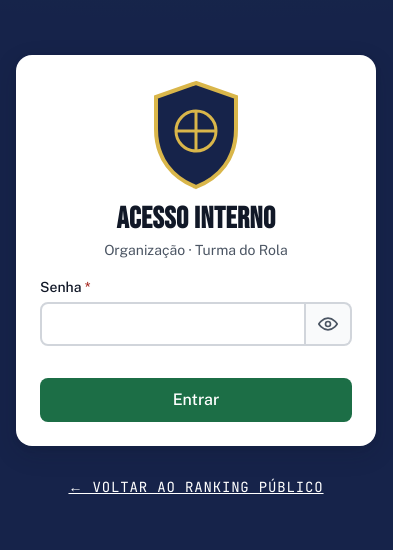
LoginForm › sem violação de acessibilidade (axe) no estado de erro
Type "senha-errada" into the password field labelled "Senha *" at (173, 324), box [40, 302, 306, 346]
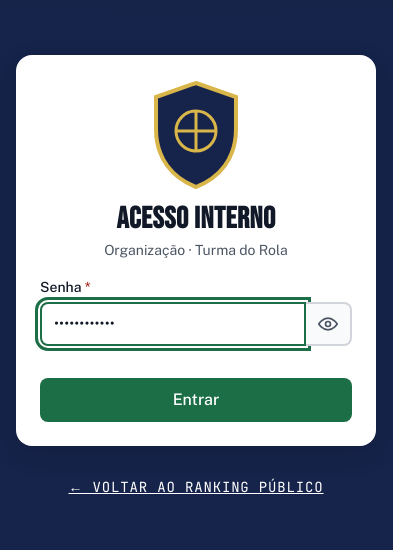
Click the button "Entrar" at (196, 400), box [40, 378, 352, 422]
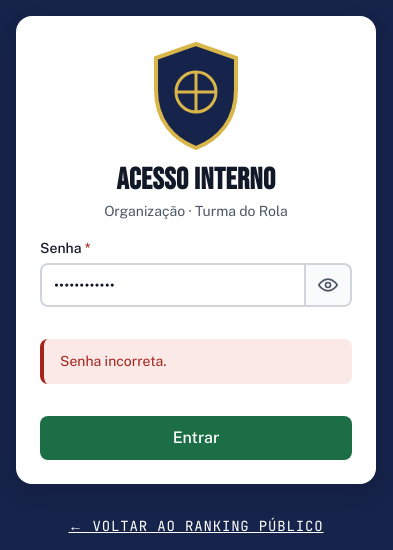
Expected: the message "Senha incorreta." is shown, [40, 339, 352, 384]
